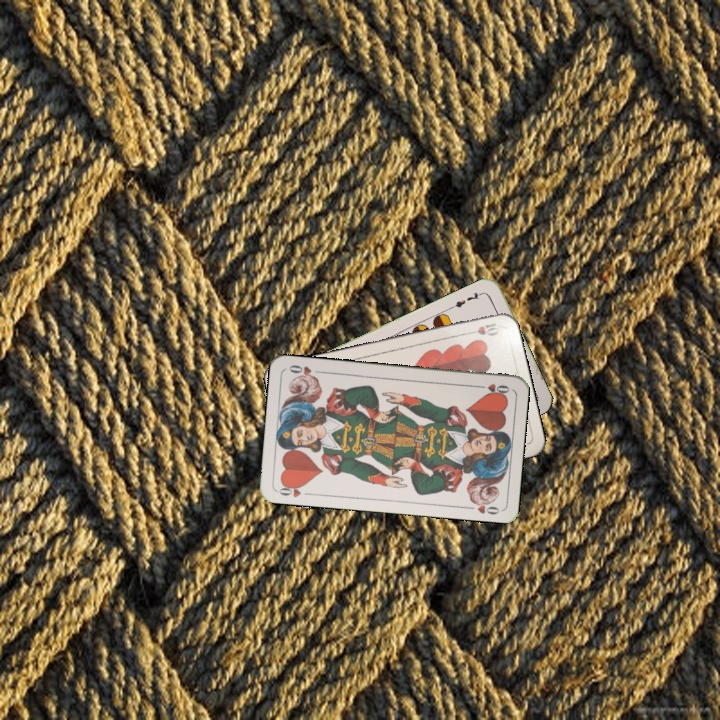E7: (448, 288, 486, 311)
H10: (462, 319, 502, 338)
HO: (472, 379, 512, 397), (274, 479, 307, 500)
